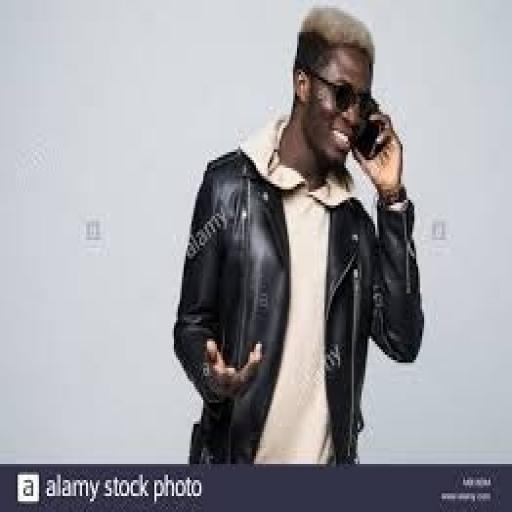calling: (170, 2, 426, 466)
